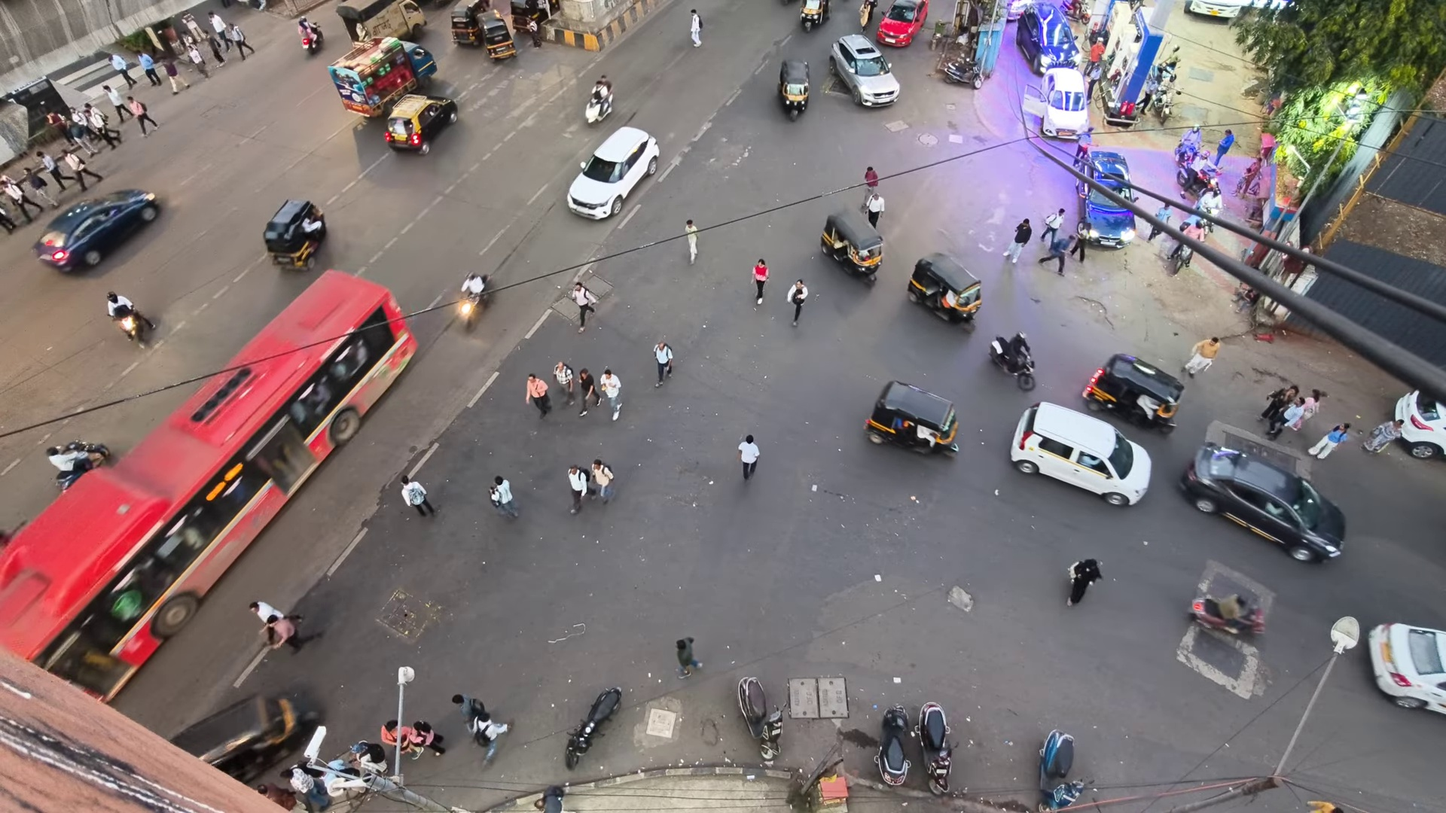driving: (0, 270, 415, 699), (1180, 443, 1344, 562), (35, 190, 159, 270), (566, 126, 660, 219), (328, 37, 436, 117), (830, 34, 899, 105)
walking: (453, 695, 508, 762), (281, 763, 331, 812), (0, 176, 43, 223), (83, 103, 121, 150), (380, 719, 423, 759), (262, 614, 308, 650), (63, 148, 102, 190), (1066, 559, 1101, 605), (20, 167, 58, 208), (1308, 423, 1351, 459), (36, 151, 75, 190), (1267, 397, 1304, 437), (1184, 337, 1220, 376), (1259, 385, 1298, 421), (569, 282, 597, 332), (1291, 389, 1325, 430), (1362, 419, 1404, 452), (401, 476, 435, 516), (1003, 218, 1032, 263), (350, 740, 387, 775), (127, 96, 158, 136), (1038, 236, 1069, 276), (410, 721, 444, 756), (490, 476, 518, 518), (590, 459, 615, 504), (599, 368, 621, 419), (256, 783, 297, 810), (578, 368, 601, 416), (525, 373, 550, 417), (102, 84, 130, 123), (1234, 157, 1261, 196), (676, 637, 702, 677), (46, 110, 75, 145), (738, 434, 760, 480), (568, 466, 589, 513), (227, 24, 254, 60), (163, 59, 190, 94), (787, 279, 807, 325), (654, 341, 673, 387), (554, 361, 574, 404), (249, 600, 286, 623), (111, 53, 136, 87), (209, 11, 230, 50), (1041, 209, 1064, 244), (1213, 129, 1234, 166), (187, 42, 208, 78), (139, 53, 161, 86), (865, 191, 884, 228), (753, 258, 767, 304), (1181, 215, 1205, 240), (685, 219, 698, 263), (1068, 233, 1087, 263), (863, 166, 878, 204), (206, 37, 225, 66), (0, 206, 17, 233), (526, 17, 541, 46), (690, 9, 701, 47), (1154, 205, 1173, 224)
